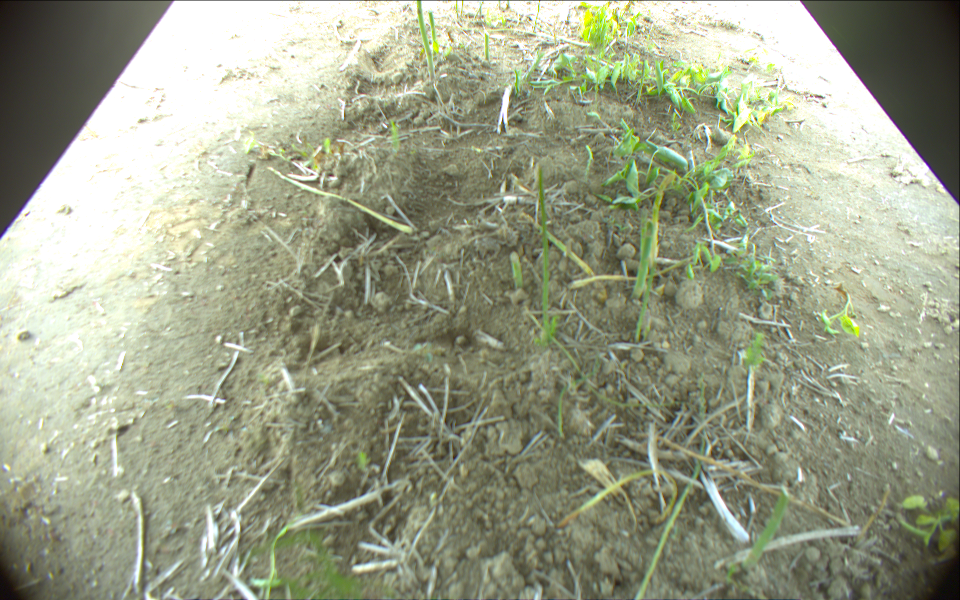aspa: (264, 164, 412, 235), (635, 453, 702, 600), (520, 209, 596, 276), (568, 255, 694, 288), (743, 489, 789, 571), (536, 165, 550, 343), (650, 169, 677, 253), (481, 26, 592, 46), (633, 221, 655, 295), (415, 1, 431, 53), (509, 250, 523, 285), (429, 11, 438, 49), (532, 1, 540, 30), (483, 33, 489, 61), (454, 1, 459, 15), (460, 1, 464, 16)
